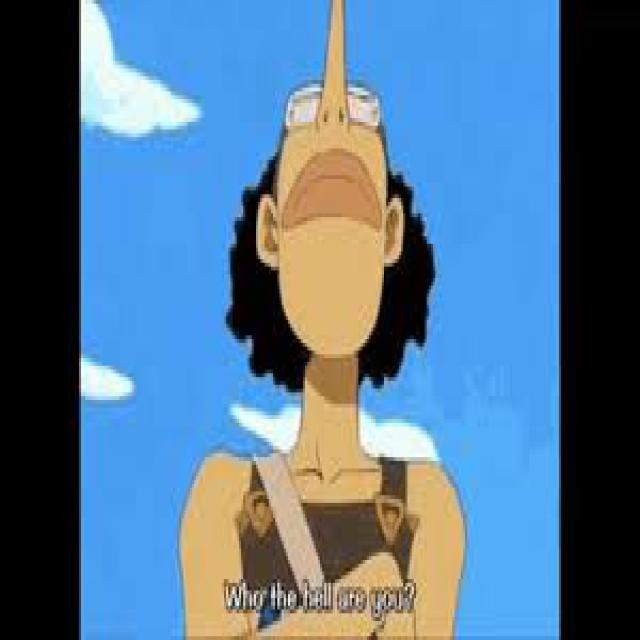Usopp: (179, 0, 467, 640)
